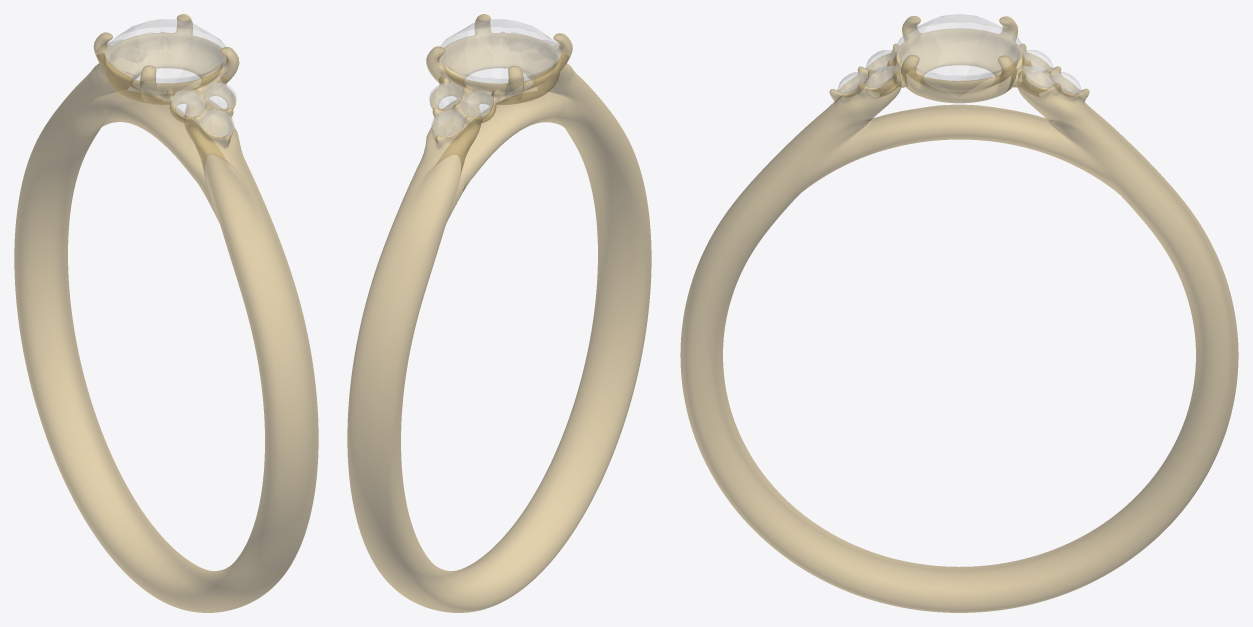
The picture shows the model from 3 angles, left to right: view 1: azimuth 30°, elevation 25°; view 2: azimuth 150°, elevation 25°; view 3: azimuth 270°, elevation 25°; orthographic projection. The views are drawn at different scales.
Visible parts, largest first — view 1: Ring, Diamond; view 2: Ring, Diamond; view 3: Ring, Diamond.
Part boxes in pixels (x1,y1,x2,y2): Ring: (14, 14, 318, 612); Diamond: (97, 19, 236, 135); Ring: (347, 14, 651, 612); Diamond: (429, 19, 568, 136); Ring: (680, 16, 1238, 612); Diamond: (837, 14, 1081, 96).
Bounding box in the file's own units: 0.5355 × 2.66 × 2.32.
